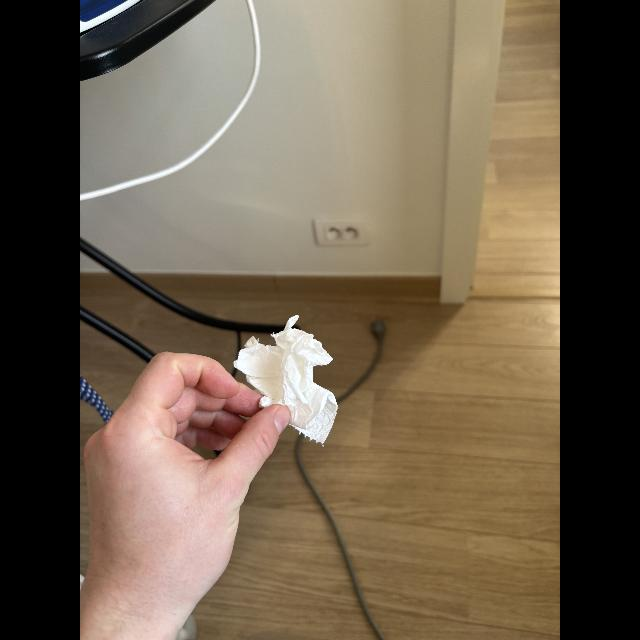Paper: (225, 324, 352, 452)
